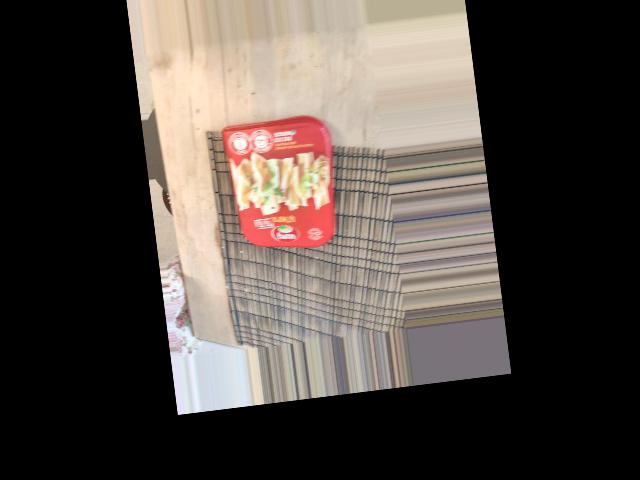cheese: (252, 177, 385, 284)
